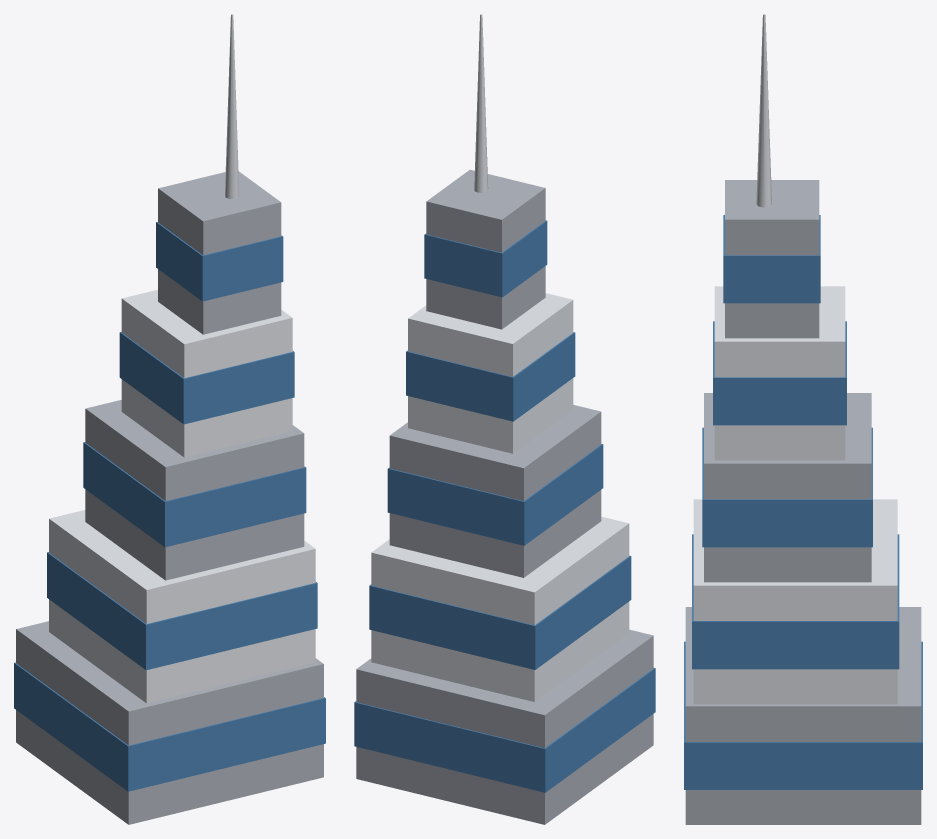
File: landmark_2030.glb
3 renders of one model, left to right at view 1: azimuth 30°, elevation 25°; view 2: azimuth 150°, elevation 25°; view 3: azimuth 270°, elevation 25°, orthographic. The views are drawn at different scales.
Visible parts, largest first — view 1: Tier_0, Tier_1, Tier_2, TierGlass_0, Tier_3, TierGlass_1, Tier_4, TierGlass_2, TierGlass_3, TierGlass_4, Spire; view 2: Tier_0, Tier_1, Tier_2, TierGlass_0, Tier_3, TierGlass_1, Tier_4, TierGlass_2, TierGlass_3, TierGlass_4, Spire; view 3: Tier_0, Tier_1, Tier_2, Tier_3, TierGlass_0, TierGlass_1, Tier_4, TierGlass_2, TierGlass_3, TierGlass_4, Spire.
Part boxes in pixels (bbox=[...]): Tier_0: bbox=[16, 621, 323, 824]; Tier_1: bbox=[49, 510, 315, 703]; Tier_2: bbox=[85, 400, 304, 580]; TierGlass_0: bbox=[14, 662, 325, 791]; Tier_3: bbox=[121, 289, 292, 457]; TierGlass_1: bbox=[47, 552, 317, 670]; Tier_4: bbox=[158, 171, 281, 334]; TierGlass_2: bbox=[83, 442, 306, 547]; TierGlass_3: bbox=[119, 332, 294, 424]; TierGlass_4: bbox=[156, 222, 283, 301]; Spire: bbox=[225, 14, 239, 198]; Tier_0: bbox=[356, 629, 653, 824]; Tier_1: bbox=[371, 516, 629, 701]; Tier_2: bbox=[389, 405, 601, 577]; TierGlass_0: bbox=[354, 668, 655, 792]; Tier_3: bbox=[408, 293, 573, 453]; TierGlass_1: bbox=[369, 555, 631, 669]; Tier_4: bbox=[426, 169, 545, 329]; TierGlass_2: bbox=[387, 444, 603, 545]; TierGlass_3: bbox=[406, 332, 575, 421]; TierGlass_4: bbox=[424, 220, 547, 297]; Spire: bbox=[474, 14, 488, 192]; Tier_0: bbox=[685, 607, 921, 824]; Tier_1: bbox=[693, 499, 897, 704]; Tier_2: bbox=[704, 393, 871, 582]; Tier_3: bbox=[714, 286, 845, 460]; TierGlass_0: bbox=[684, 641, 922, 789]; TierGlass_1: bbox=[692, 534, 899, 669]; Tier_4: bbox=[725, 180, 819, 338]; TierGlass_2: bbox=[702, 427, 872, 547]; TierGlass_3: bbox=[713, 321, 846, 425]; TierGlass_4: bbox=[723, 215, 820, 303]; Spire: bbox=[756, 14, 771, 207].
Bounding box in the file's own units: 0.912 × 3.3 × 0.912.
